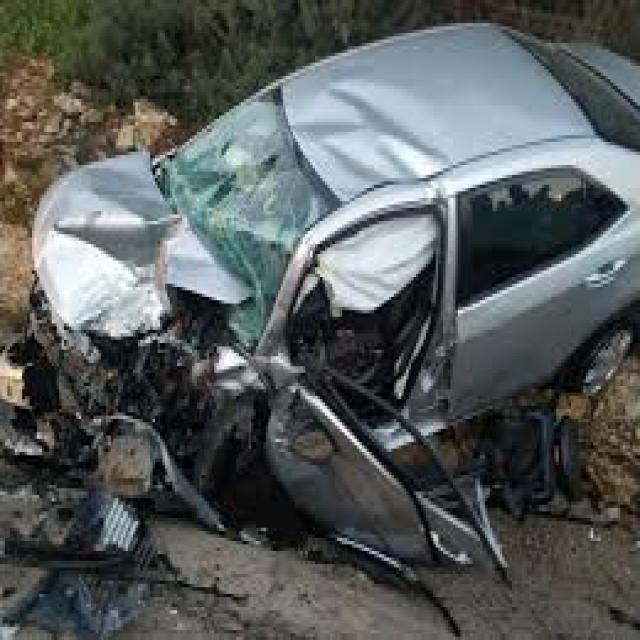accident: (21, 47, 614, 568)
